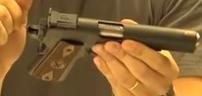gun: (1, 1, 202, 96)
